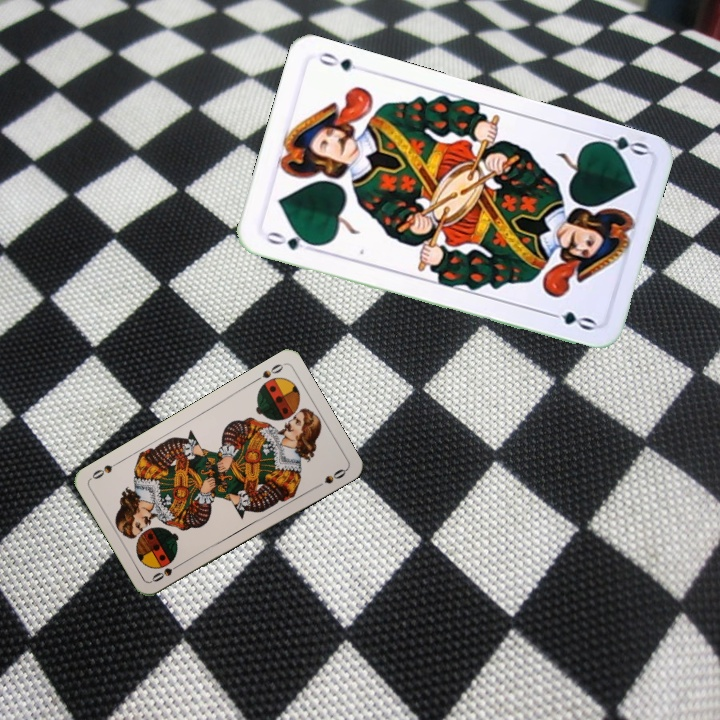GO: (590, 130, 650, 161), (261, 227, 319, 254)
SO: (148, 559, 185, 585), (249, 360, 286, 385)
